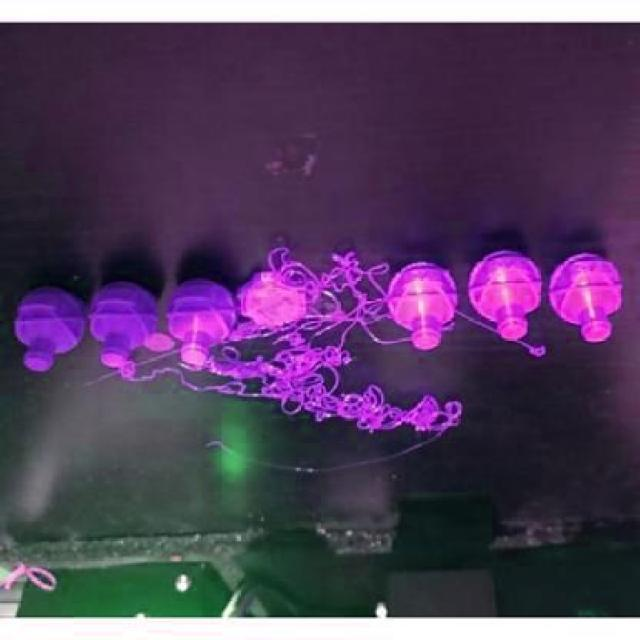Spaghetti: (120, 353, 462, 438), (225, 244, 393, 356), (515, 338, 550, 358), (438, 318, 460, 337), (390, 334, 416, 348)
